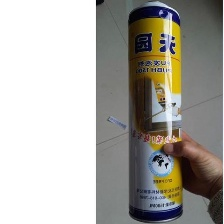aerosol_cans: (126, 0, 185, 224)
